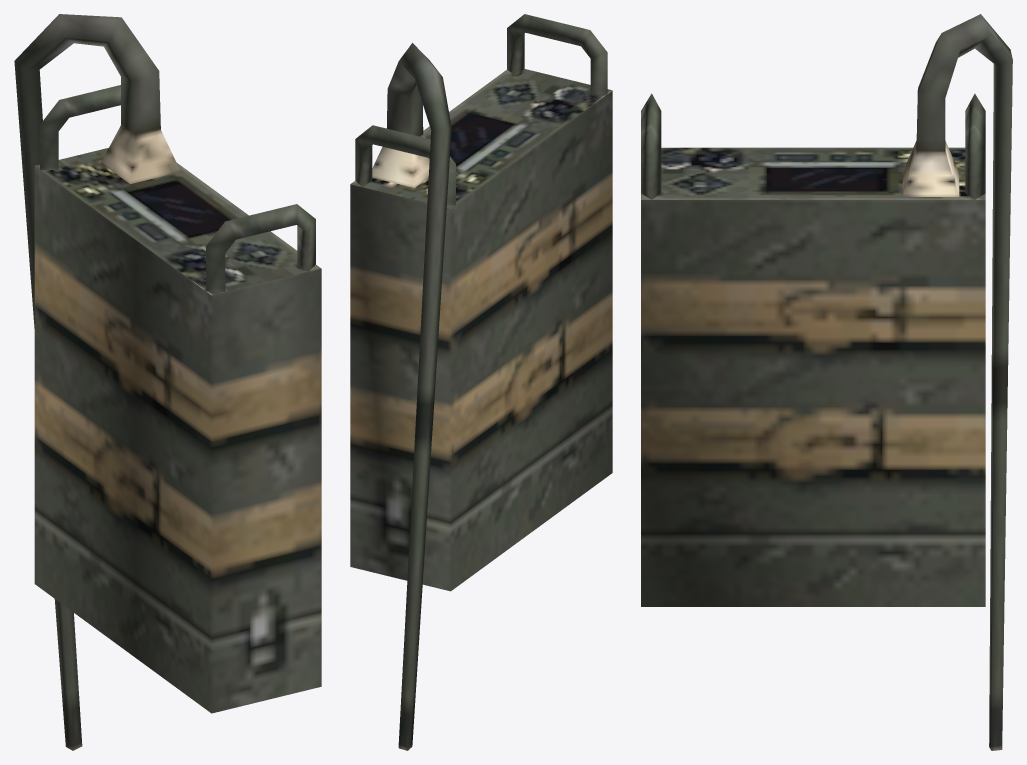
File: AN_RadioPack.glb
The picture shows the model from 3 angles, left to right: view 1: azimuth 30°, elevation 25°; view 2: azimuth 150°, elevation 25°; view 3: azimuth 270°, elevation 25°; orthographic projection. The views are drawn at different scales.
Parts seen in each view (by area): view 1: AN_RADIOPACK; view 2: AN_RADIOPACK; view 3: AN_RADIOPACK.
Boxes of the visible parts, x1,y1,x2,y2 form: AN_RADIOPACK: (14, 14, 321, 750); AN_RADIOPACK: (350, 14, 612, 750); AN_RADIOPACK: (641, 14, 1012, 750).
Size of the model in its own units: 0.111 by 0.674 by 0.313.
Materials: 1 (1 with a texture image).
